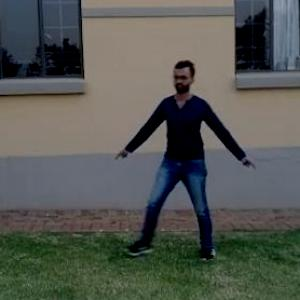land: (125, 60, 257, 243)
